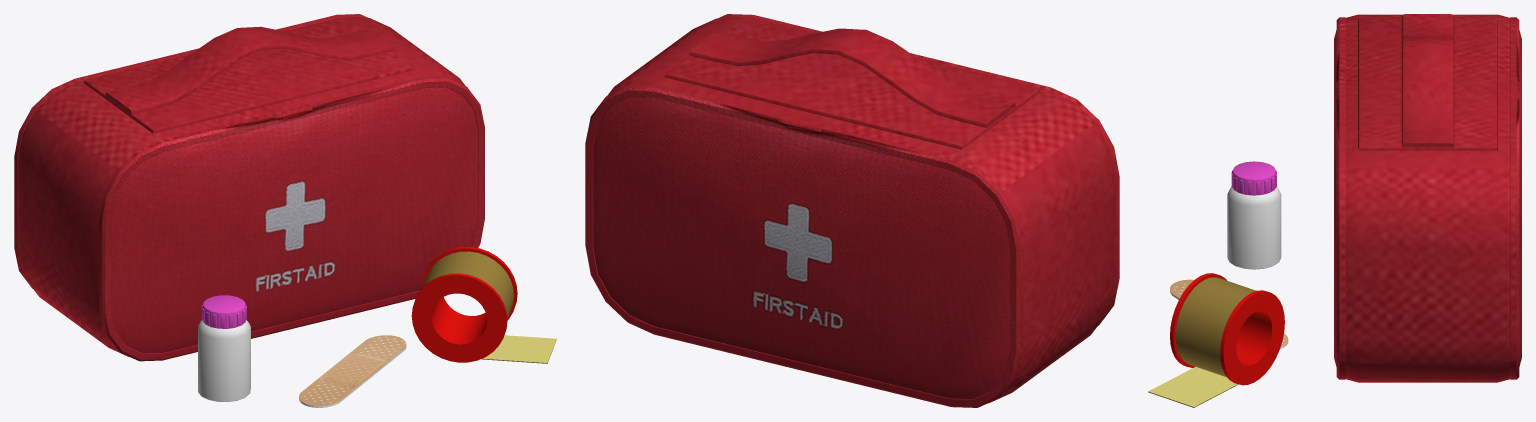
Rendered from ilkyardımasseti.fbx.
The picture shows the model from 3 angles, left to right: view 1: azimuth 30°, elevation 25°; view 2: azimuth 150°, elevation 25°; view 3: azimuth 270°, elevation 25°; orthographic projection. The views are drawn at different scales.
Visible parts, largest first — view 1: CANTA, RULOYARABANDI, İLAÇ, YARABANDI; view 2: CANTA; view 3: CANTA, RULOYARABANDI, İLAÇ, YARABANDI.
Boxes of the visible parts, left/top/right/bottom form: CANTA: left=14, top=14, right=484, bottom=361; RULOYARABANDI: left=411, top=246, right=556, bottom=363; İLAÇ: left=198, top=295, right=250, bottom=401; YARABANDI: left=299, top=335, right=406, bottom=407; CANTA: left=585, top=14, right=1119, bottom=407; CANTA: left=1334, top=14, right=1521, bottom=382; RULOYARABANDI: left=1148, top=273, right=1284, bottom=407; İLAÇ: left=1227, top=161, right=1281, bottom=269; YARABANDI: left=1170, top=279, right=1288, bottom=348.
Size of the model in its own units: 30.48 by 20.12 by 25.17.
8 materials, 3 textured.
